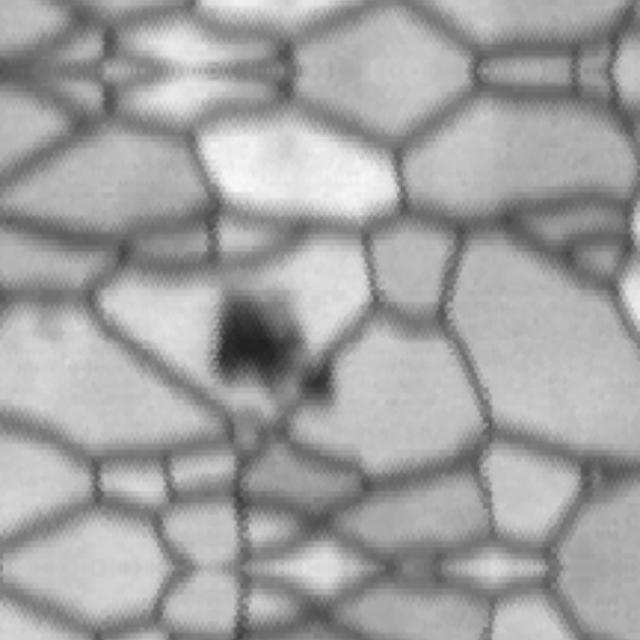good_void: (202, 281, 333, 416)
